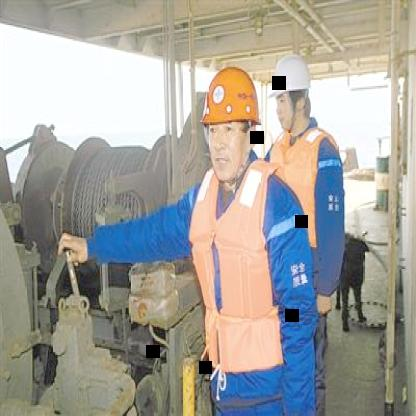helmet: (196, 61, 264, 185), (266, 47, 316, 139)
